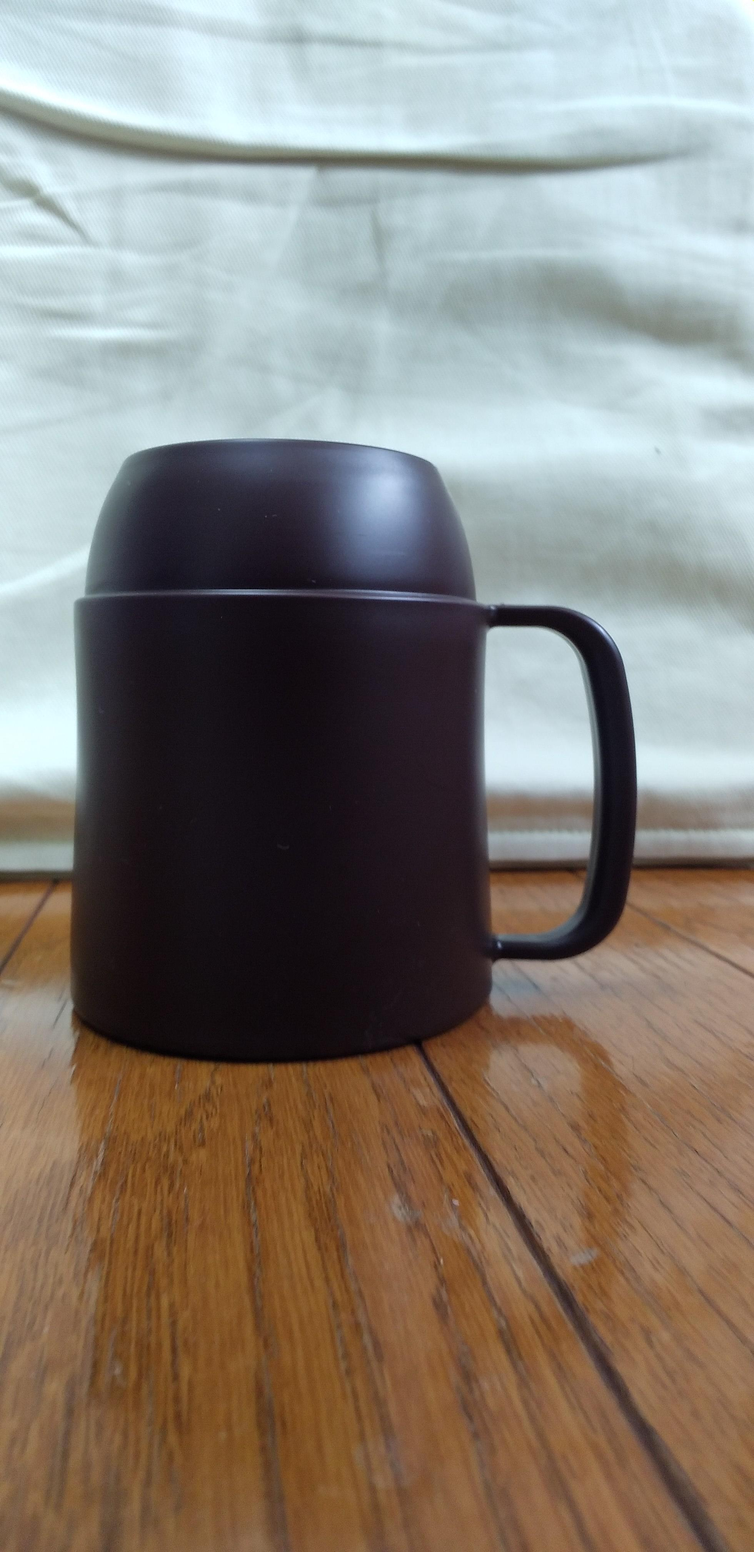mug-real100-3d100: (72, 440, 636, 1062)
